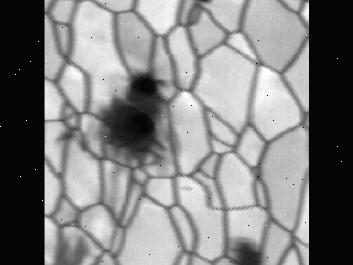good_void: (96, 69, 174, 180), (47, 237, 93, 265), (224, 236, 266, 265), (56, 117, 84, 149), (194, 0, 216, 14), (180, 178, 197, 196)
